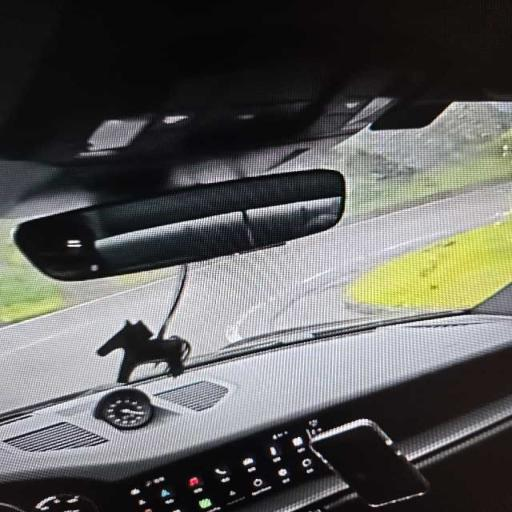car: (0, 0, 511, 511)
lane: (170, 185, 511, 355)
